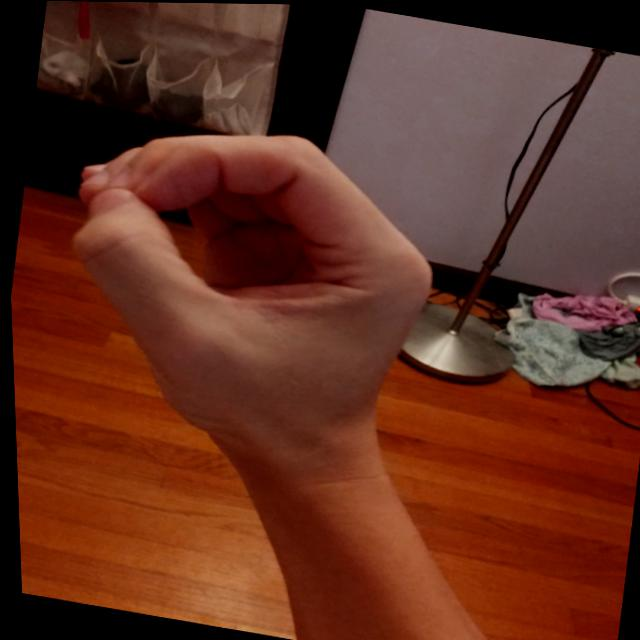O: (26, 91, 467, 482)
